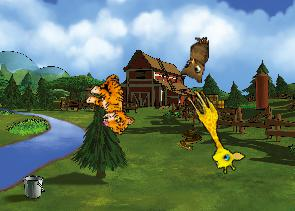giraffe: (175, 85, 248, 177)
owl: (179, 35, 209, 83)
tiger: (78, 69, 148, 138)
